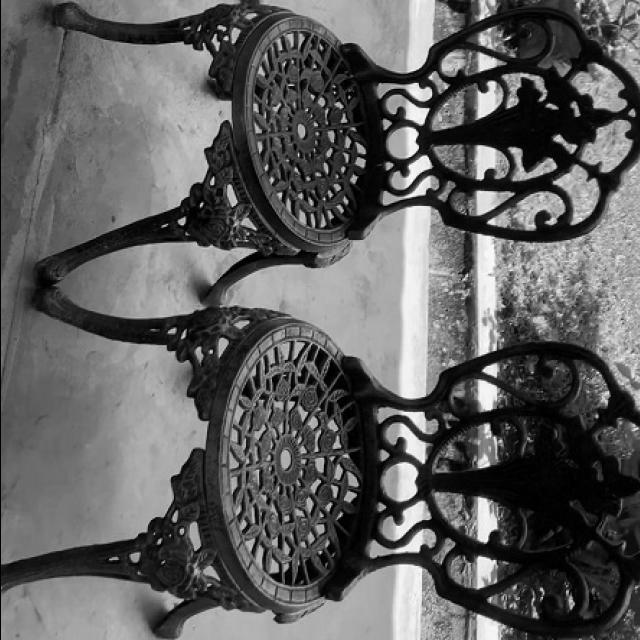chair: (0, 282, 640, 640), (22, 0, 640, 308)
